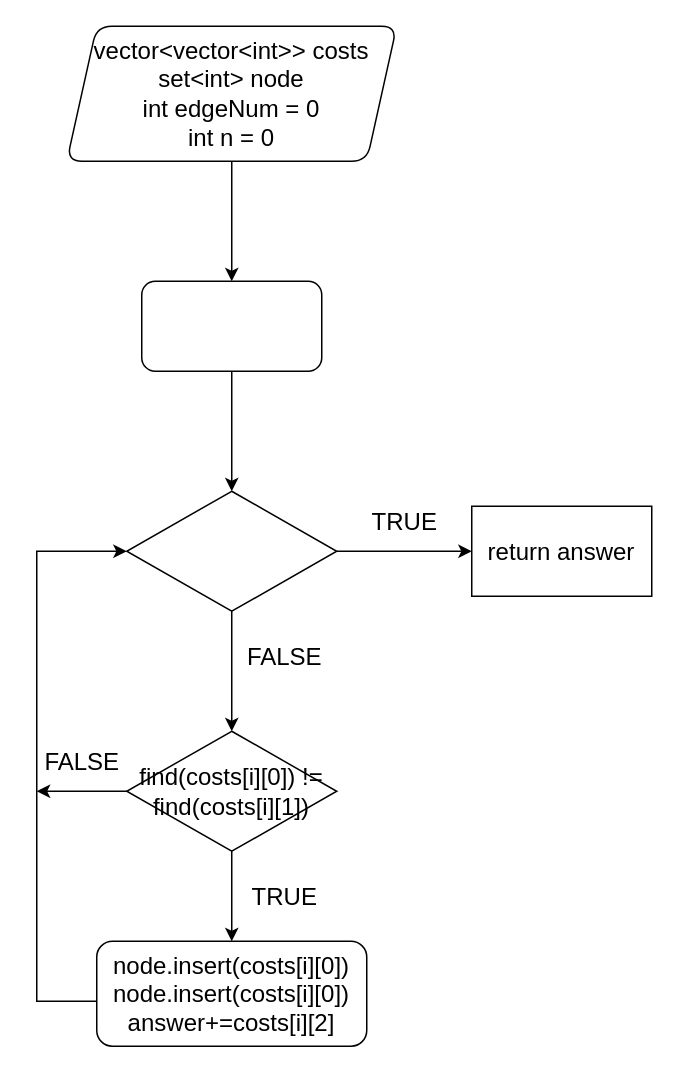
Image size: 678x1073. Some labels were removed from this diagram. The centre of each missing label's shape, as x and y in pixels:
"edgeNum == n-1" belongs at pixel 231 550.
"sort(costs)" belongs at pixel 231 325.
